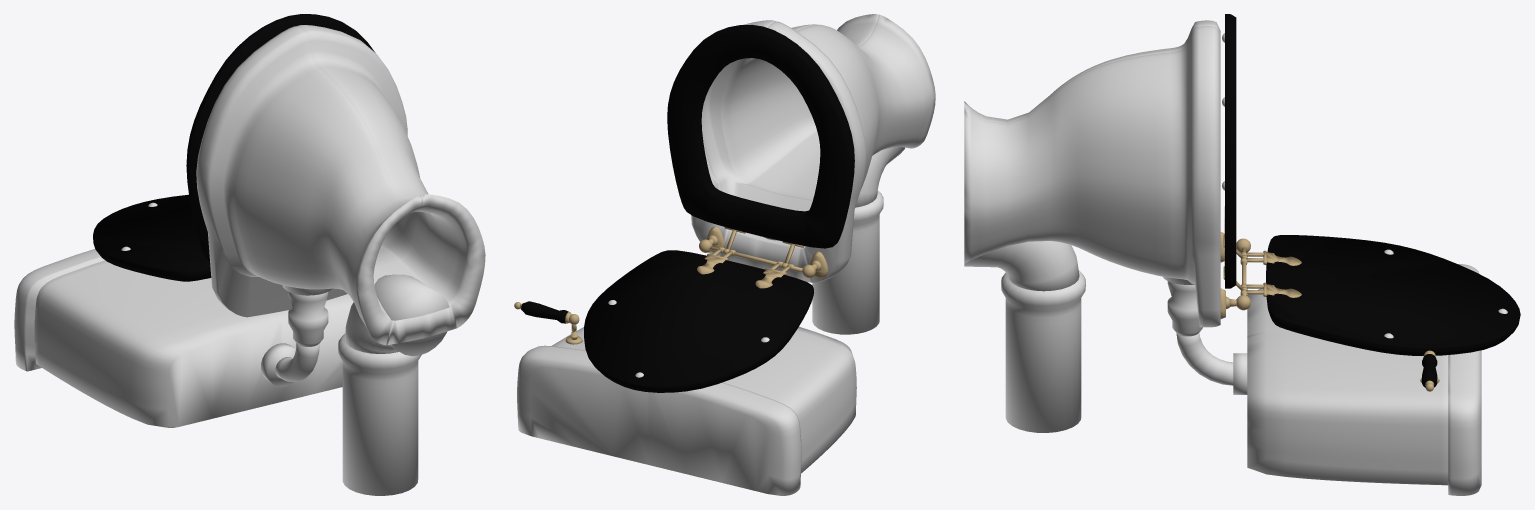
The model's file is commode.fbx.
3 views of the same model, side by side, from view 1: azimuth 30°, elevation 25°; view 2: azimuth 150°, elevation 25°; view 3: azimuth 270°, elevation 25° (orthographic). The views are drawn at different scales.
Parts seen in each view (by area): view 1: toilet_WHITE_PLSTC_RE, toilet_WOOD_-_AVODIRE; view 2: toilet_WHITE_PLSTC_RE, toilet_WOOD_-_AVODIRE, toilet_BRASSCE; view 3: toilet_WHITE_PLSTC_RE, toilet_WOOD_-_AVODIRE, toilet_BRASSCE.
Boxes of the visible parts, <box> form: toilet_WHITE_PLSTC_RE: <box>14,25,485,495</box>; toilet_WOOD_-_AVODIRE: <box>93,14,375,281</box>; toilet_WHITE_PLSTC_RE: <box>517,14,935,495</box>; toilet_WOOD_-_AVODIRE: <box>521,25,854,392</box>; toilet_BRASSCE: <box>514,226,828,344</box>; toilet_WHITE_PLSTC_RE: <box>964,20,1507,495</box>; toilet_WOOD_-_AVODIRE: <box>1225,14,1520,387</box>; toilet_BRASSCE: <box>1220,206,1439,391</box>.
Bounding box in the file's own units: 0.0035 × 0.004 × 0.00506.
